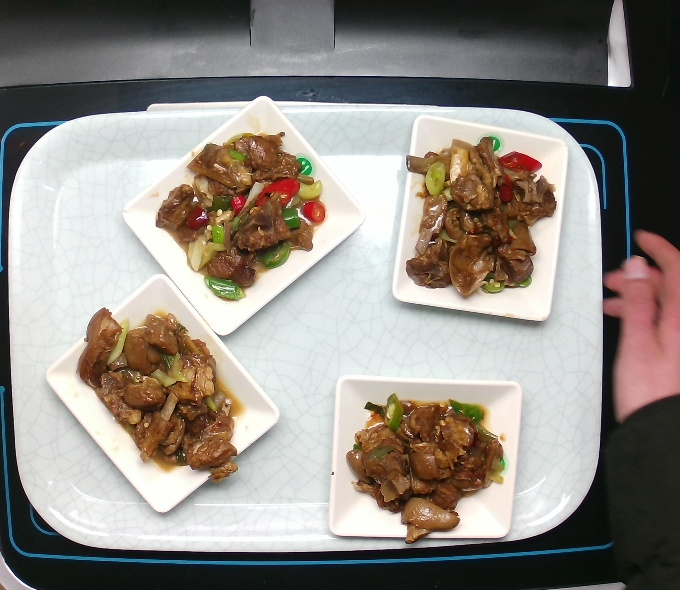wcq-YangRou: (71, 301, 245, 488), (150, 128, 333, 303), (398, 134, 560, 302), (343, 390, 509, 547)
